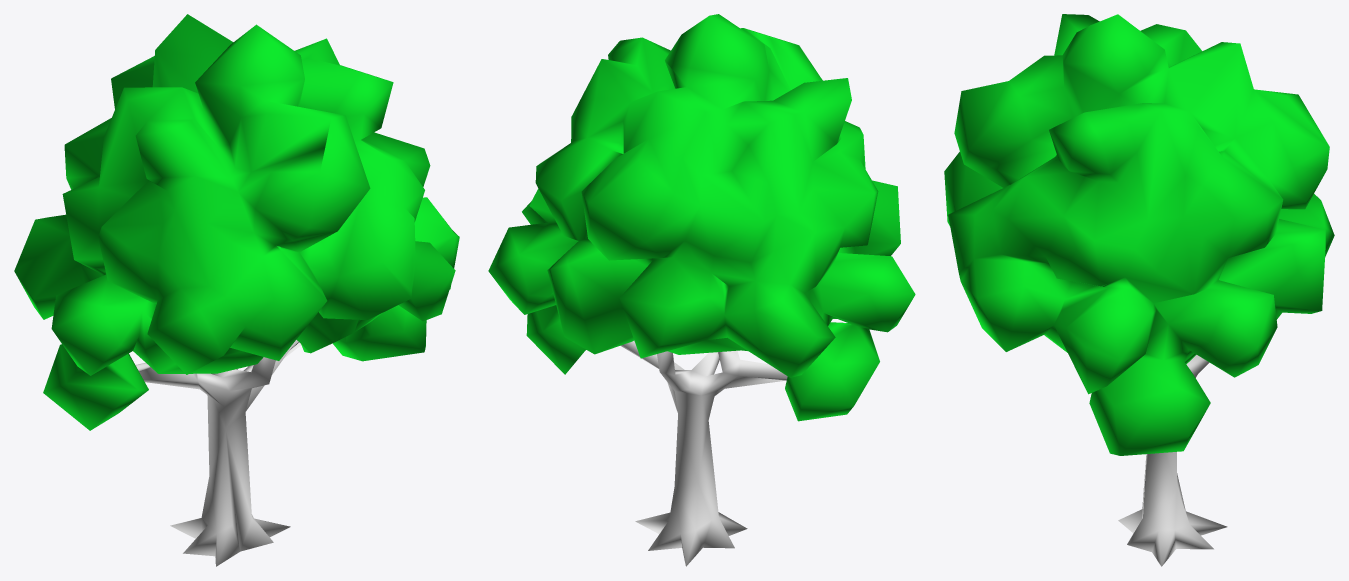
File: Tree2_GameReady 1.fbx
The picture shows the model from 3 angles, left to right: view 1: azimuth 30°, elevation 25°; view 2: azimuth 150°, elevation 25°; view 3: azimuth 270°, elevation 25°; orthographic projection. The views are drawn at different scales.
Parts seen in each view (by area): view 1: model; view 2: model; view 3: model.
Part boxes in pixels (x1=…): model: x1=14, y1=14, x2=459, y2=566; model: x1=488, y1=14, x2=915, y2=566; model: x1=944, y1=14, x2=1334, y2=566.
Size of the model in its own units: 145 by 182 by 121.
